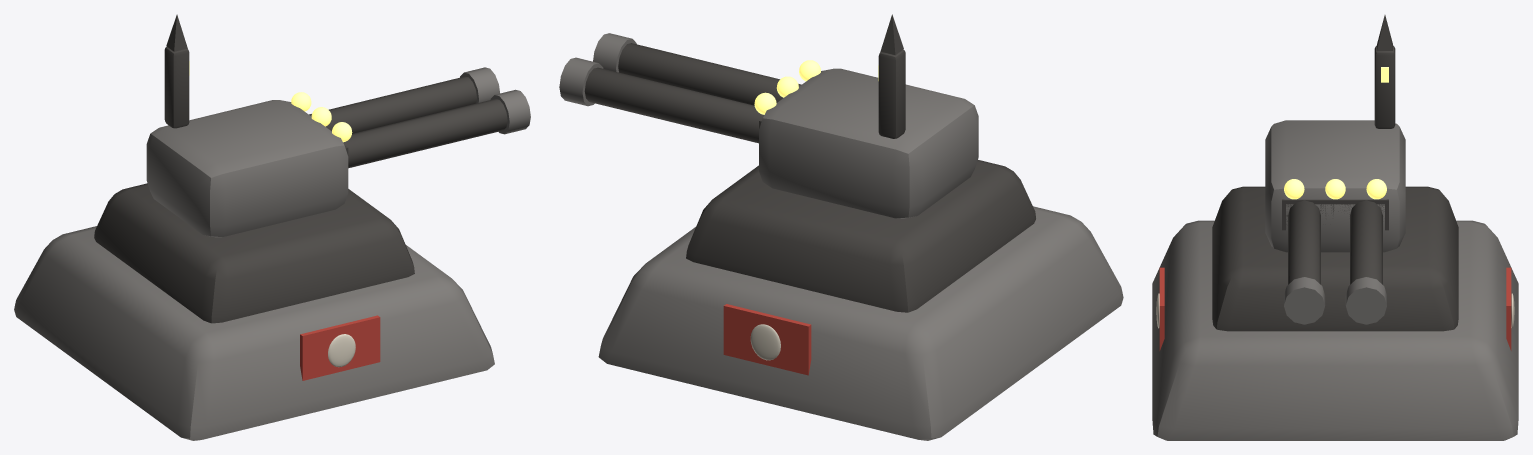
Rendered from turret_hum.glb.
3 views of the same model, side by side, from view 1: azimuth 30°, elevation 25°; view 2: azimuth 150°, elevation 25°; view 3: azimuth 270°, elevation 25° (orthographic). The views are drawn at different scales.
Parts seen in each view (by area): view 1: turret_hum, gun_m; view 2: turret_hum, gun_m; view 3: turret_hum, gun_m.
Boxes of the visible parts, box(x1,y1,x2,y2) form: turret_hum: box(14, 183, 494, 440); gun_m: box(146, 14, 530, 237); turret_hum: box(598, 160, 1123, 440); gun_m: box(559, 14, 978, 218); turret_hum: box(1152, 186, 1518, 440); gun_m: box(1265, 15, 1405, 324).
Size of the model in its own units: 1.15 by 0.88 by 0.8874.
